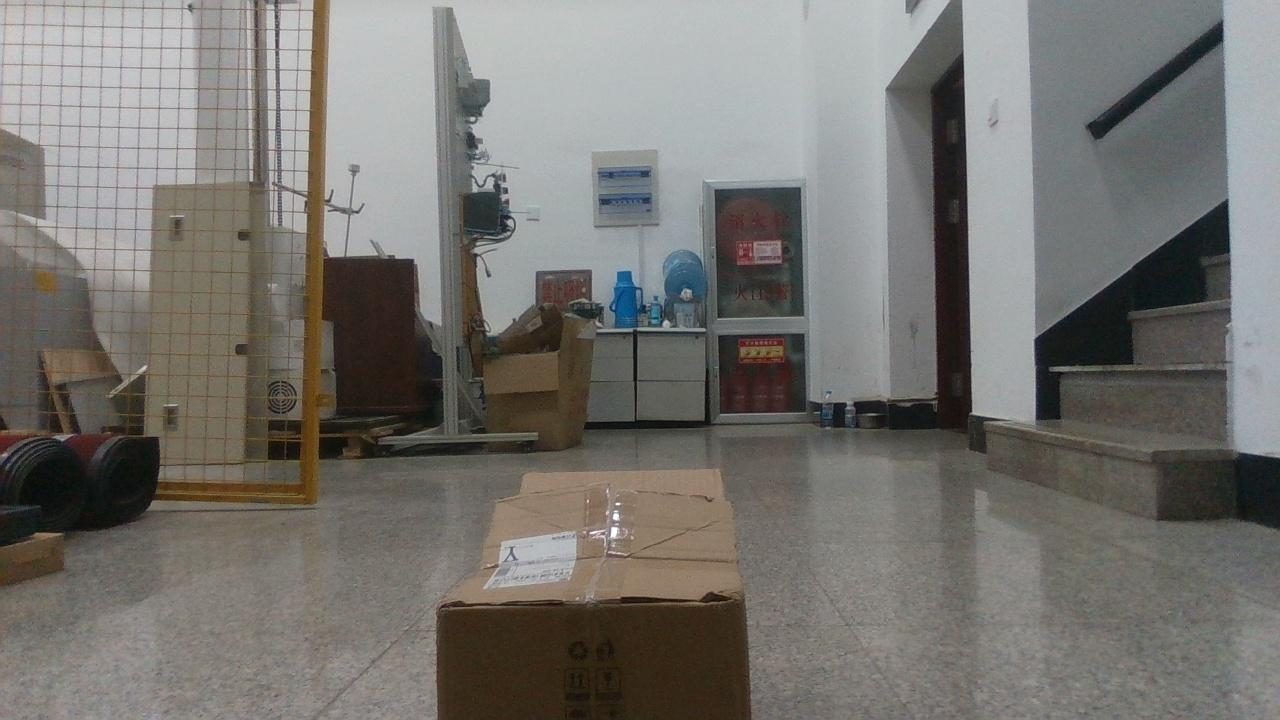box: (438, 471, 750, 719)
